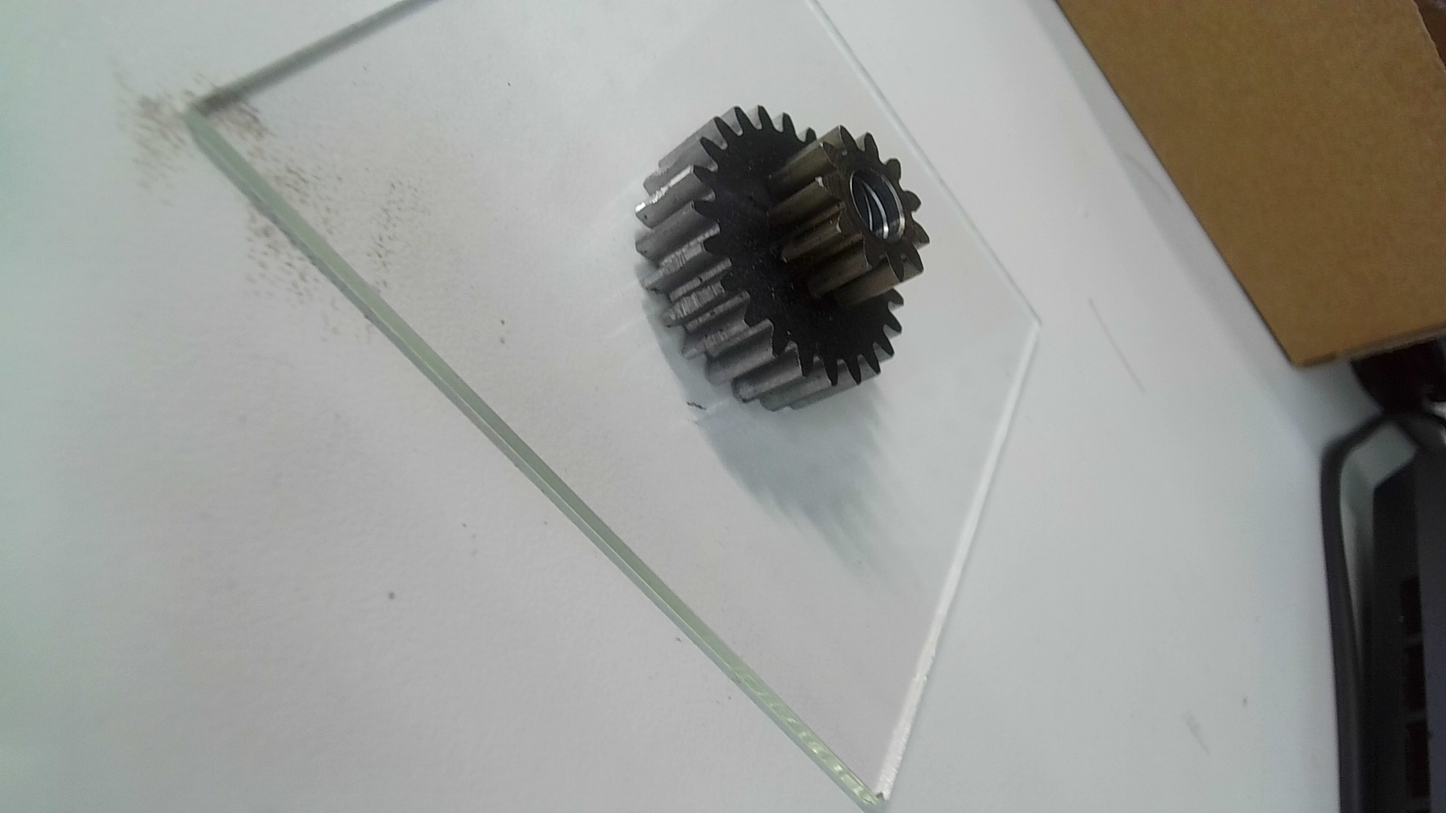gear: (636, 99, 934, 421)
